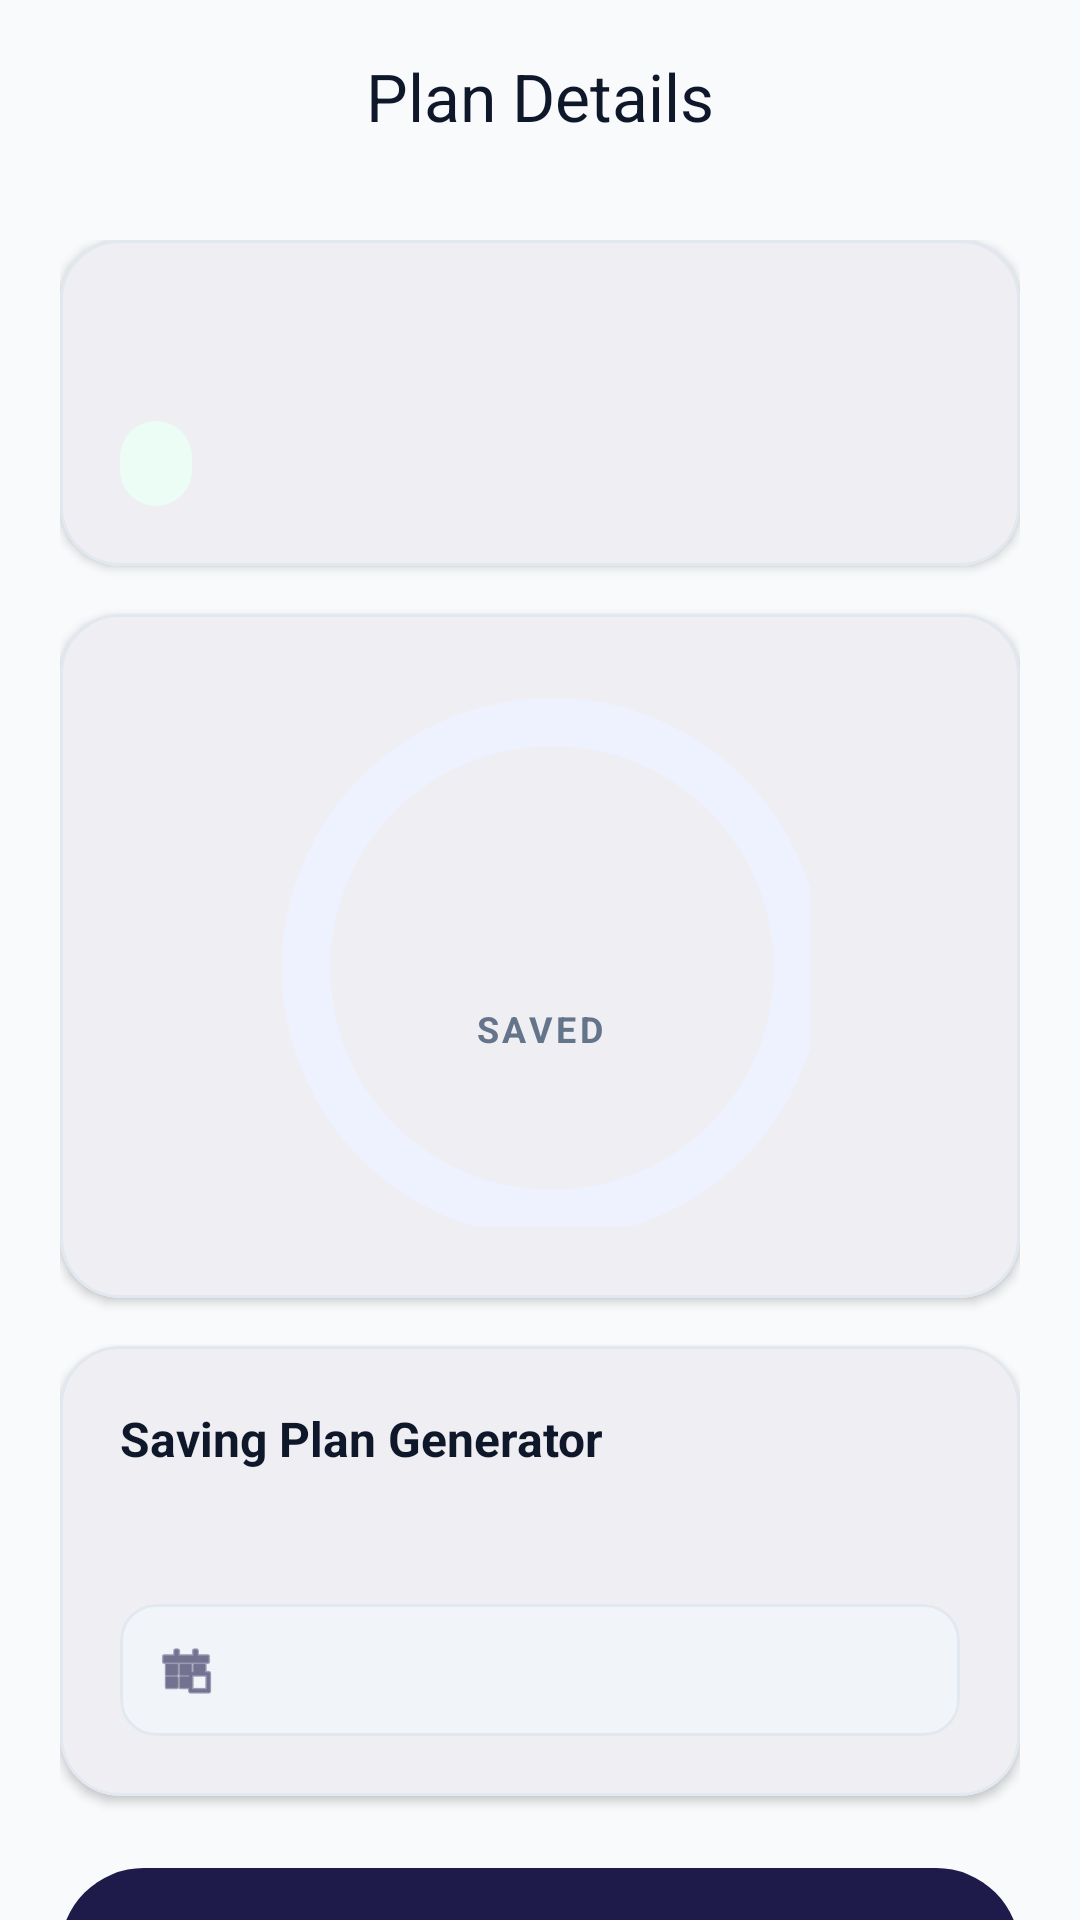

Named icons in this screenshot (1080x1920) and their bounding boxes, (x1=x1, y1=y1, x2=x2, y2=y2):
today: (x1=162, y1=1648, x2=211, y2=1694)
